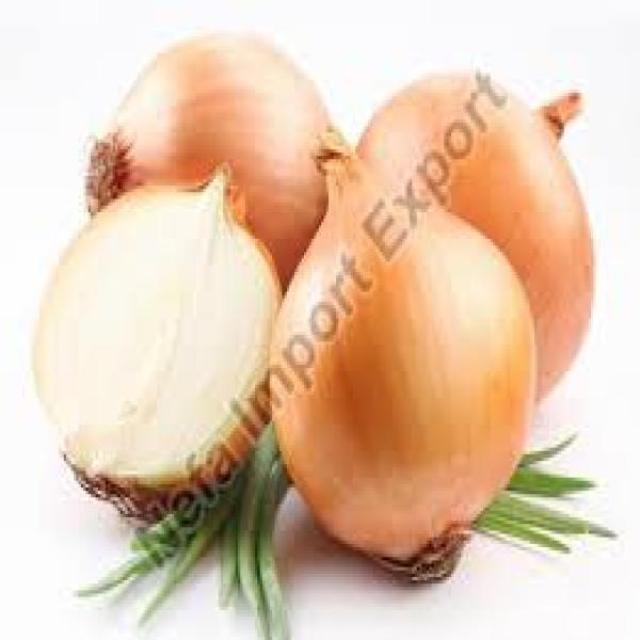Onion: (261, 147, 544, 562), (16, 156, 285, 520), (342, 82, 592, 402), (74, 16, 349, 288)
